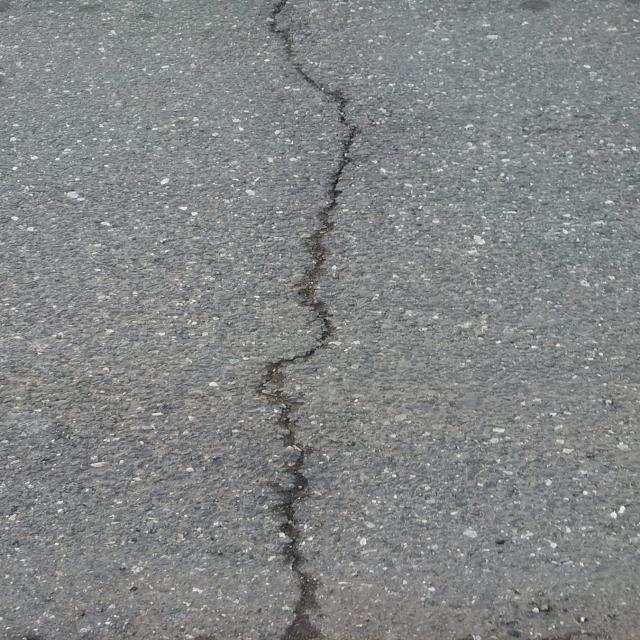Crack: (256, 64, 361, 640), (269, 0, 293, 60)
